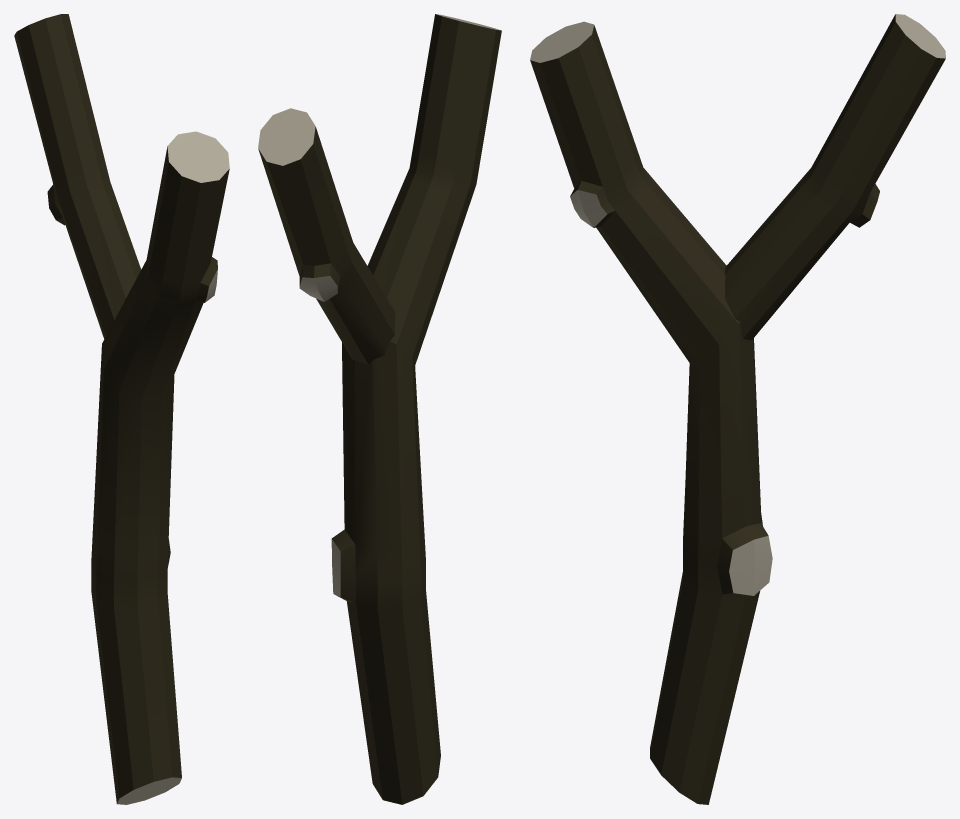
Rendered from YStick.fbx.
3 views of the same model, side by side, from view 1: azimuth 30°, elevation 25°; view 2: azimuth 150°, elevation 25°; view 3: azimuth 270°, elevation 25° (orthographic). The views are drawn at different scales.
Visible parts, largest first — view 1: pCylinder3; view 2: pCylinder3; view 3: pCylinder3.
Part boxes in pixels (x1,y1,x2,y2): pCylinder3: [14, 14, 229, 804]; pCylinder3: [258, 14, 501, 804]; pCylinder3: [530, 14, 945, 804].
Size of the model in its own units: 5.12 by 45.62 by 21.93.
